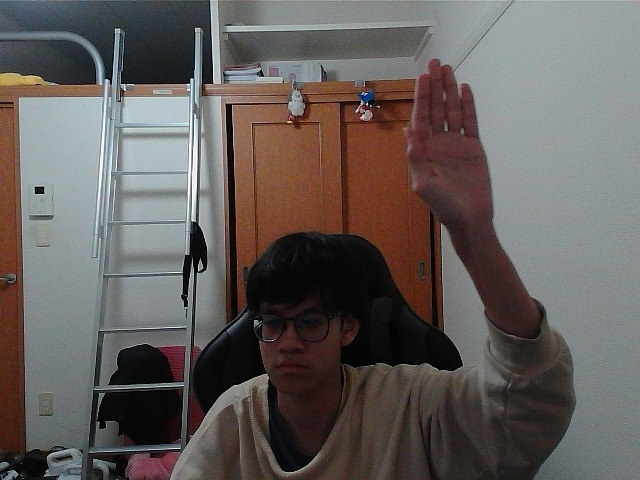open_palm: (412, 67, 473, 214)
